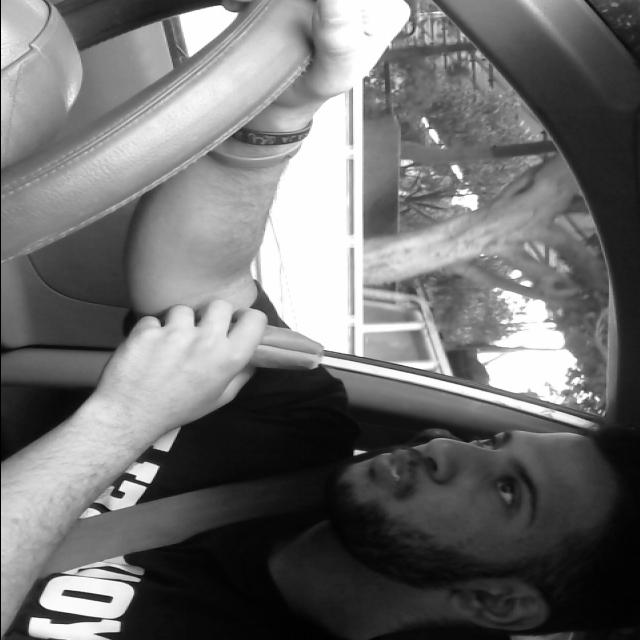eating: (180, 316, 329, 378)
